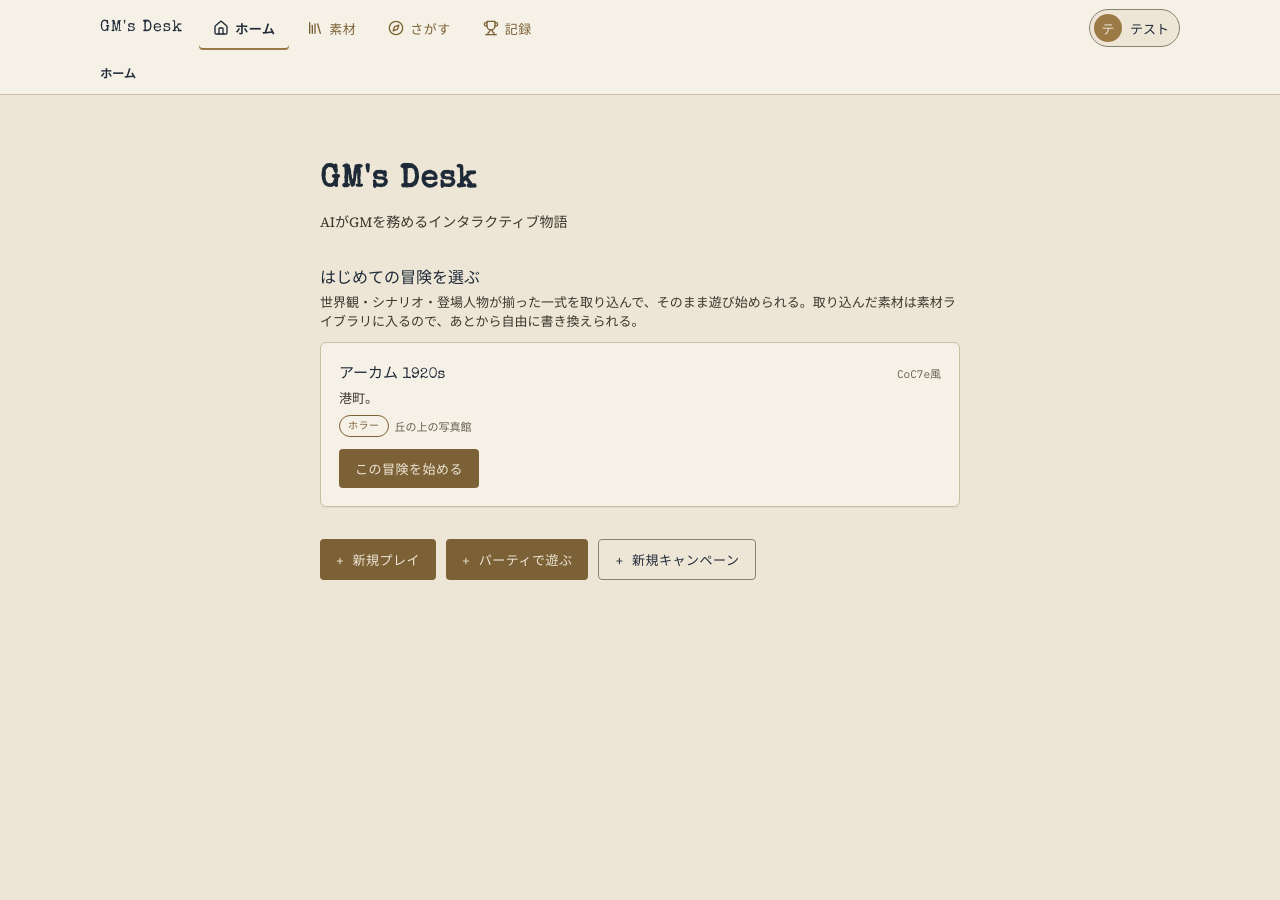
it: App › does not carry a previously imported starter pack into a later plain new-session wizard
Expected: the button "+ 新規プレイ" is enabled, [320, 539, 436, 580]
Click the button "この冒険を始める": (409, 469) [339, 449, 479, 488]
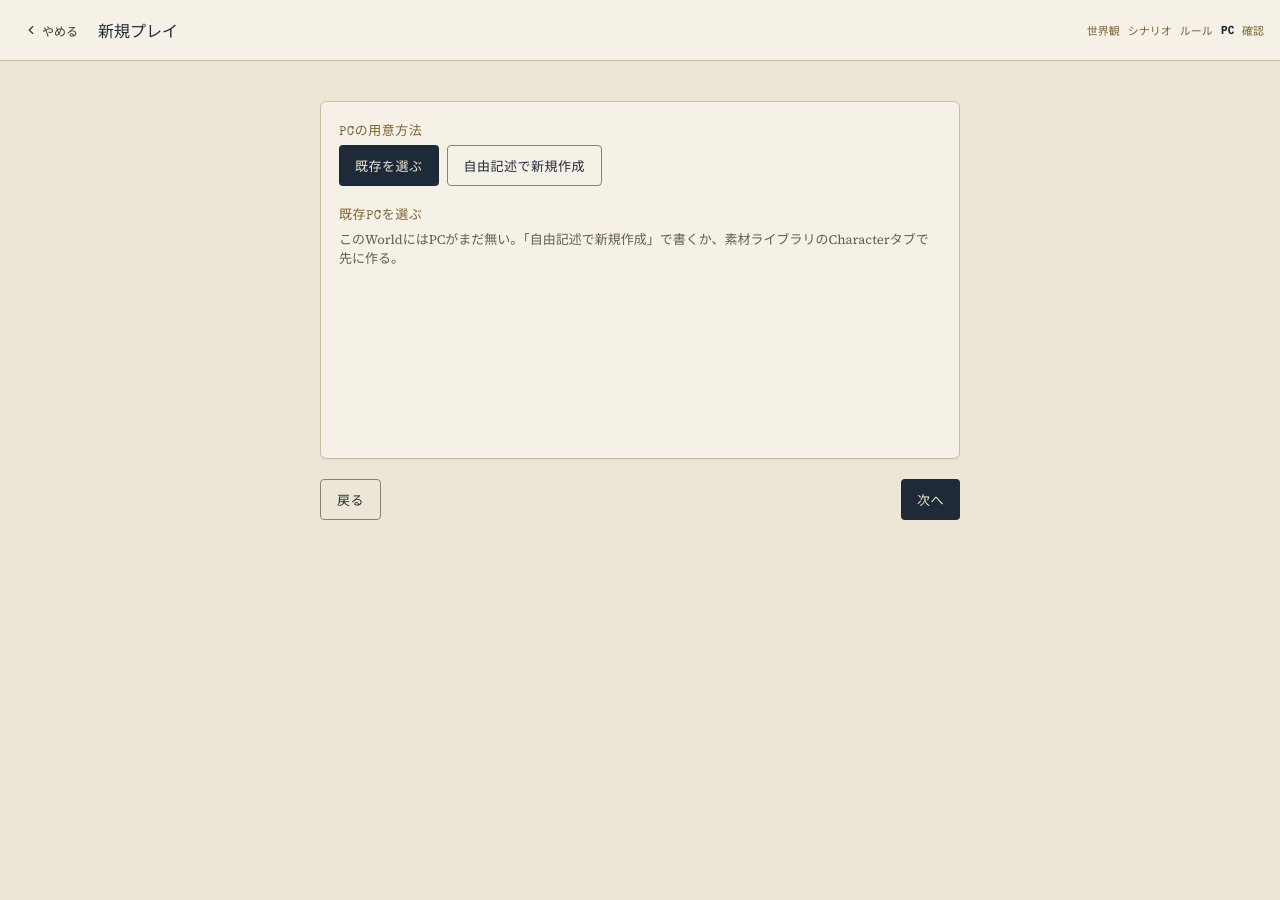
Expected: the text "PCの用意方法" is shown, [339, 126, 422, 139]
Click the button "やめる": (51, 30) [16, 8, 86, 52]
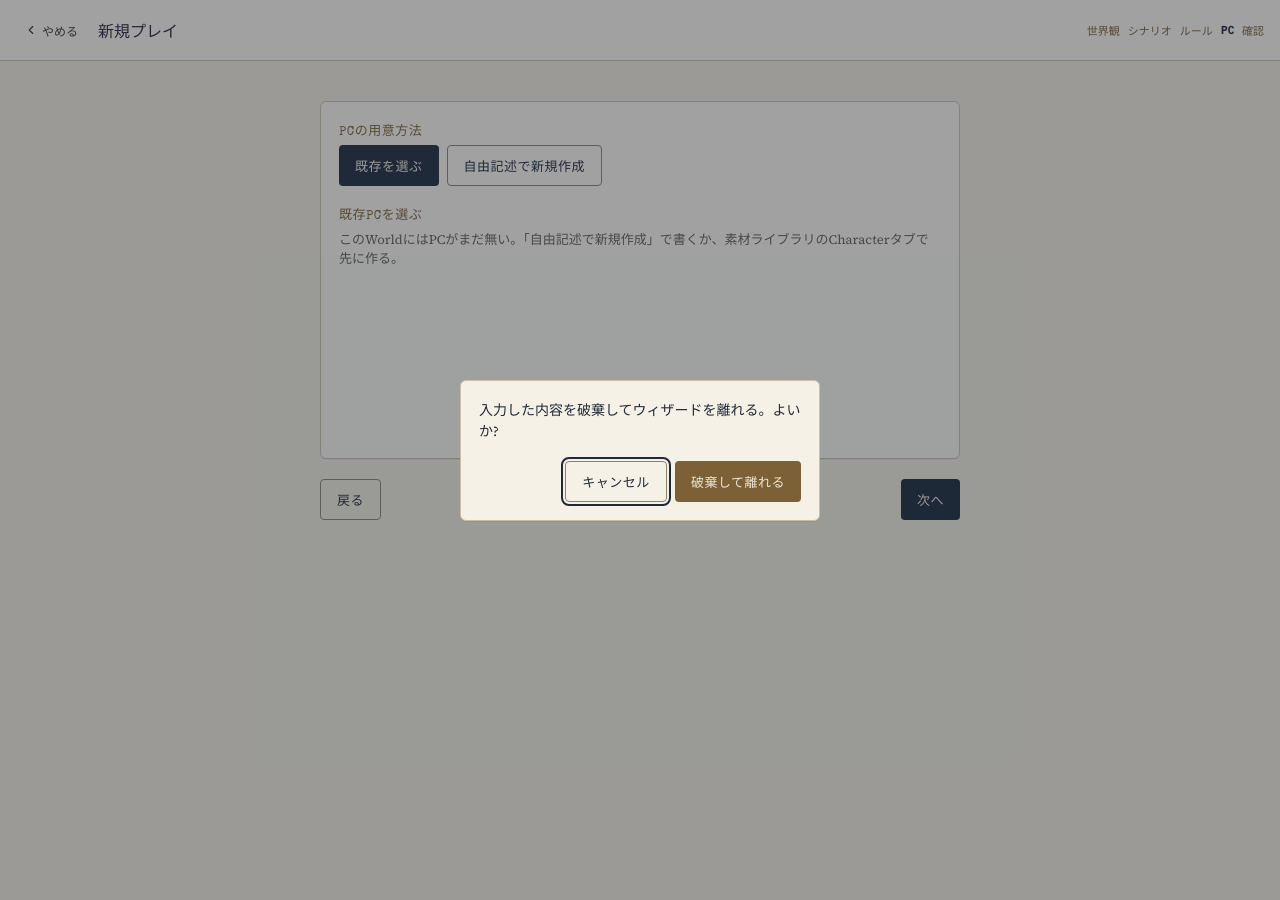
Click the button "破棄して離れる": (738, 481) [675, 460, 801, 502]
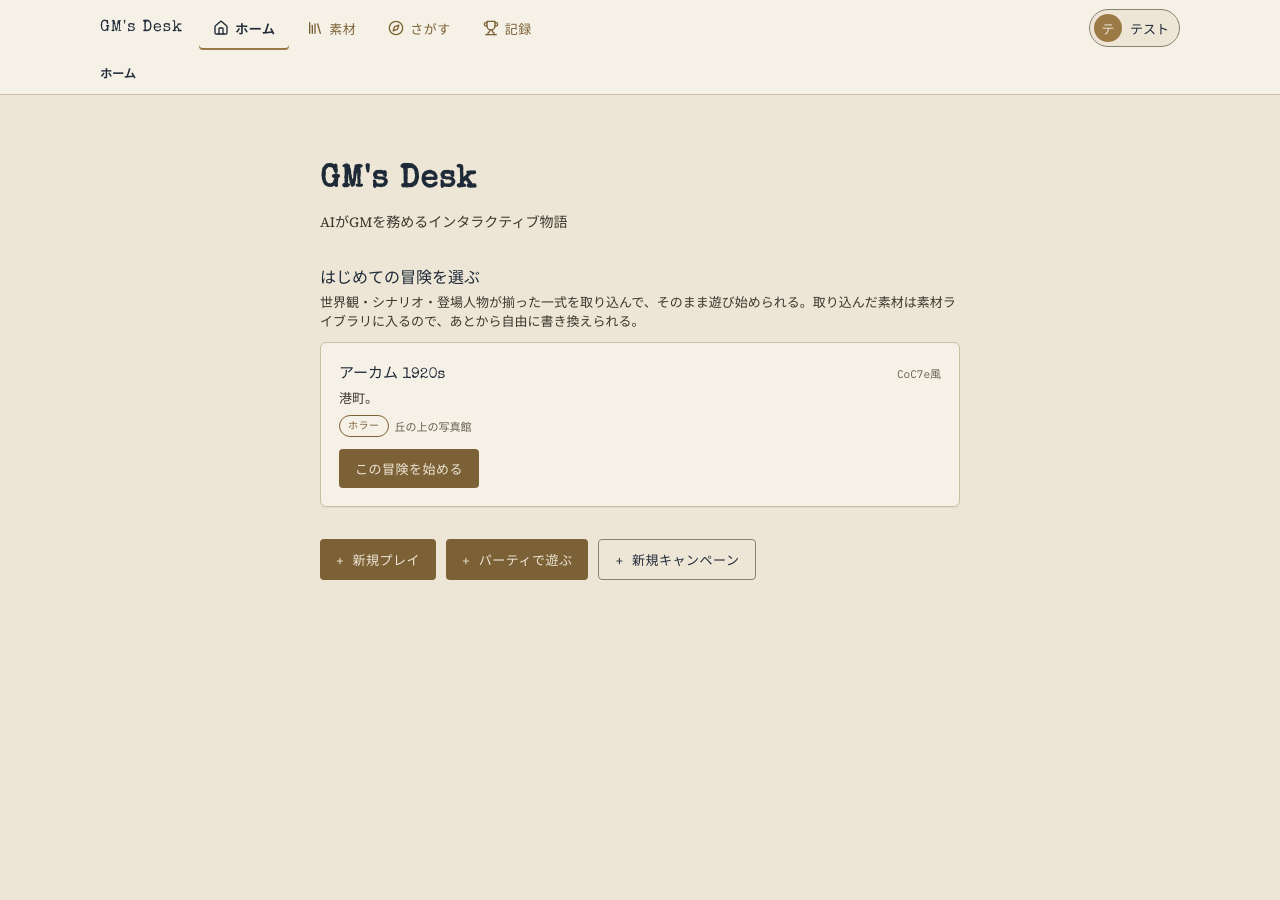
Expected: the heading "GM's Desk" is shown, [320, 164, 477, 197]
Expected: the button "+ 新規プレイ" is enabled
// 改めて「+ 新規プレイ」から入り直す。
Click the button "+ 新規プレイ": (378, 560) [320, 539, 436, 580]
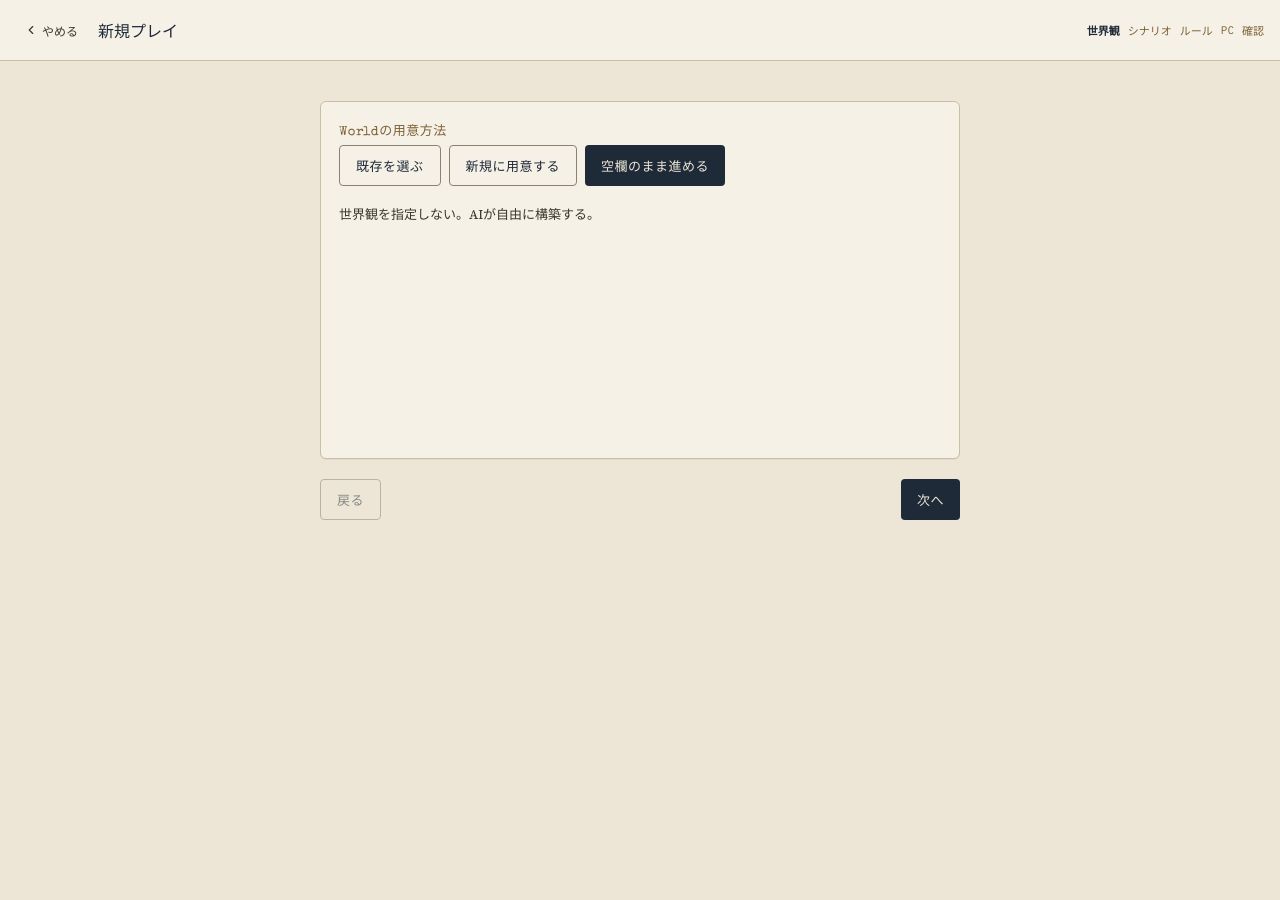
Expected: the text "世界観を指定しない。AIが自由に構築する。" is shown, [339, 206, 600, 223]
